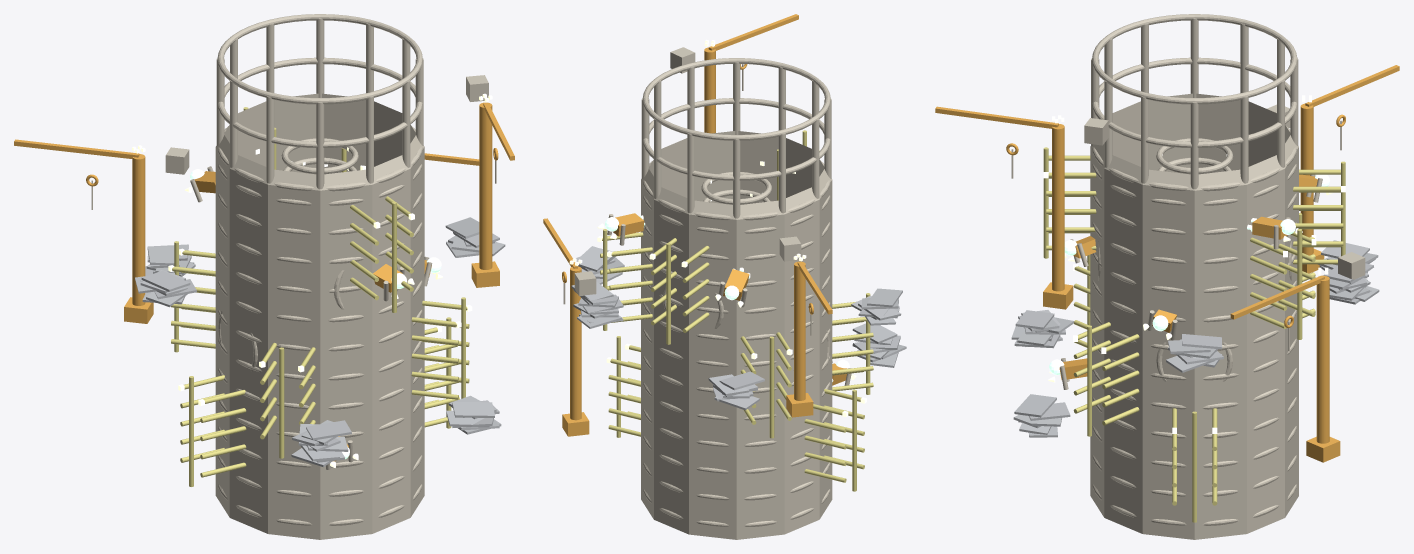
The model's file is space_construction.glb.
3 renders of one model, left to right at view 1: azimuth 30°, elevation 25°; view 2: azimuth 150°, elevation 25°; view 3: azimuth 270°, elevation 25°, orthographic. The views are drawn at different scales.
Parts seen in each view (by area): view 1: ColonyFrame_cylinder, ColonyFrame_cylinder.002, ColonyFrame_cylinder.001, ColonyFrame_cone, Torus.014, Torus.013, Cylinder.212, Cylinder.210, Torus.012, Cube.038, Torus.029, Cylinder.044 (+22 smaller); view 2: ColonyFrame_cylinder, ColonyFrame_cylinder.001, ColonyFrame_cylinder.002, ColonyFrame_cone, Torus.014, Torus.013, Cylinder.210, Cylinder.208, Torus.012, Cylinder.212, Torus.029, Torus.011 (+30 smaller); view 3: ColonyFrame_cylinder, ColonyFrame_cylinder.001, ColonyFrame_cylinder.002, ColonyFrame_cone, Torus.014, Torus.013, Cylinder.208, Cylinder.212, Cylinder.210, Torus.012, Cube.044, Torus.029 (+25 smaller).
Part boxes in pixels (bbox=[...]): ColonyFrame_cylinder: bbox=[215, 106, 424, 306]; ColonyFrame_cylinder.002: bbox=[215, 263, 424, 423]; ColonyFrame_cylinder.001: bbox=[215, 380, 424, 539]; ColonyFrame_cone: bbox=[216, 93, 424, 190]; Torus.014: bbox=[217, 14, 422, 104]; Torus.013: bbox=[217, 57, 422, 147]; Cylinder.212: bbox=[479, 102, 492, 269]; Cylinder.210: bbox=[132, 154, 145, 305]; Torus.012: bbox=[218, 126, 422, 191]; Cube.038: bbox=[14, 139, 139, 158]; Torus.029: bbox=[281, 138, 358, 174]; Cylinder.044: bbox=[316, 102, 324, 189]; ColonyFrame_cylinder: bbox=[641, 142, 832, 326]; ColonyFrame_cylinder.001: bbox=[641, 393, 832, 539]; ColonyFrame_cylinder.002: bbox=[641, 286, 832, 433]; ColonyFrame_cone: bbox=[641, 131, 832, 219]; Torus.014: bbox=[642, 58, 830, 140]; Torus.013: bbox=[642, 98, 830, 180]; Cylinder.210: bbox=[794, 261, 805, 400]; Cylinder.208: bbox=[570, 266, 581, 420]; Torus.012: bbox=[643, 160, 830, 220]; Cylinder.212: bbox=[704, 47, 715, 133]; Torus.029: bbox=[701, 172, 771, 204]; Torus.011: bbox=[643, 195, 830, 233]; ColonyFrame_cylinder: bbox=[1090, 106, 1298, 306]; ColonyFrame_cylinder.001: bbox=[1090, 380, 1298, 539]; ColonyFrame_cylinder.002: bbox=[1090, 263, 1298, 423]; ColonyFrame_cone: bbox=[1090, 93, 1298, 190]; Torus.014: bbox=[1092, 14, 1297, 104]; Torus.013: bbox=[1092, 57, 1297, 147]; Cylinder.208: bbox=[1316, 275, 1329, 443]; Cylinder.212: bbox=[1052, 124, 1064, 291]; Cylinder.210: bbox=[1300, 103, 1313, 255]; Torus.012: bbox=[1092, 126, 1296, 191]; Cube.044: bbox=[935, 106, 1058, 128]; Torus.029: bbox=[1156, 138, 1233, 174].
Size of the model in its own units: 285 by 302 by 289.
